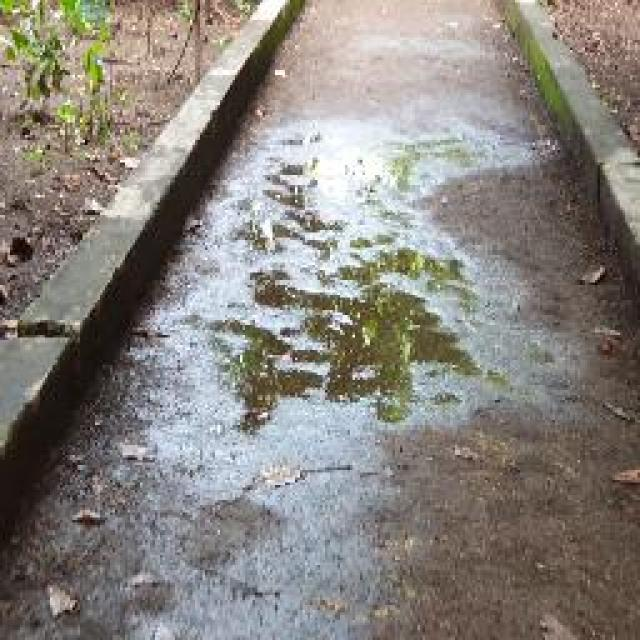stagnation: (254, 106, 508, 438)
